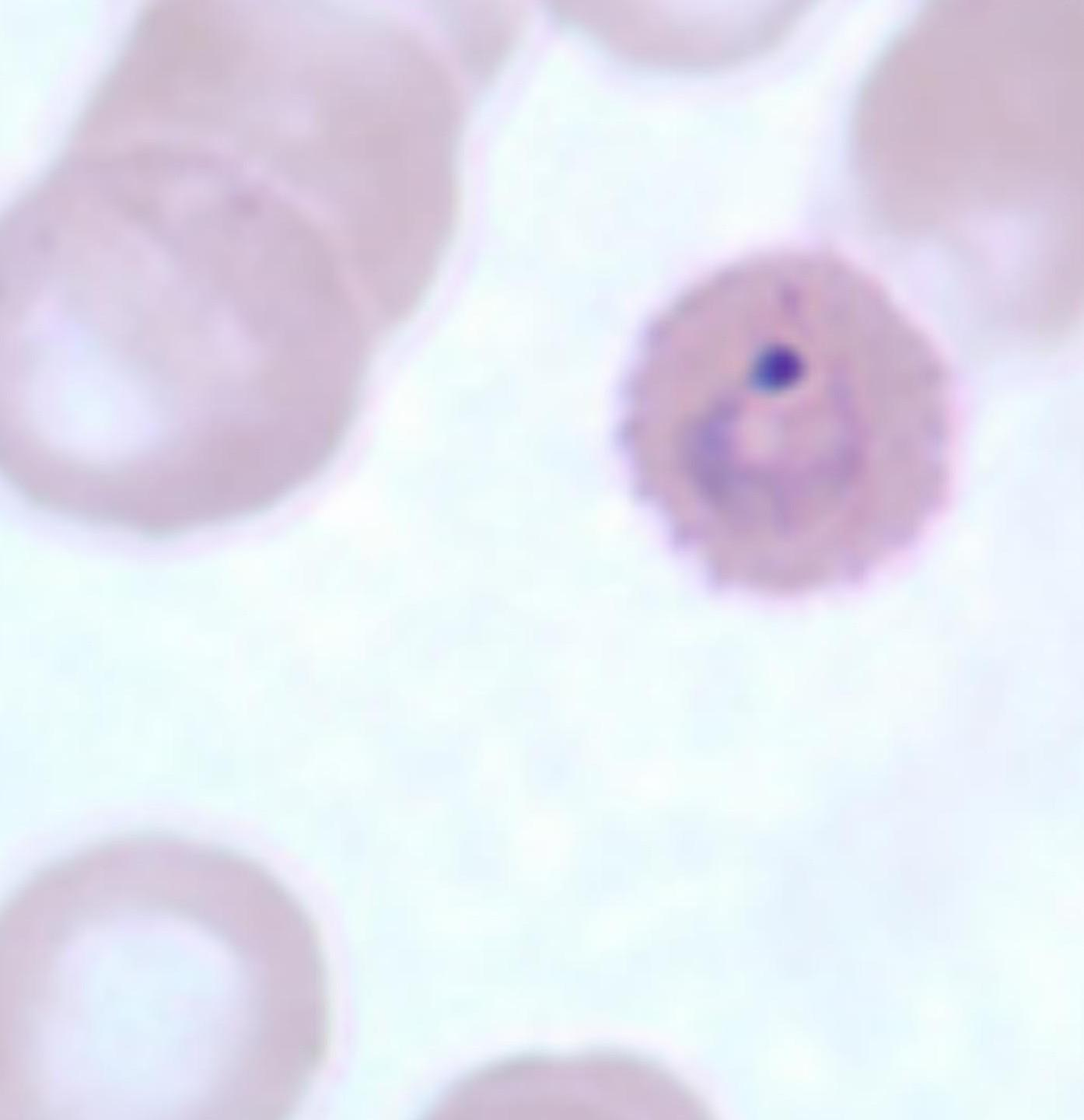Infected: (622, 247, 967, 599)
Uninfected: (0, 149, 381, 537), (60, 1, 443, 383), (0, 836, 327, 1120)
